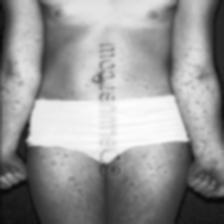Toxin: (183, 58, 201, 74), (15, 78, 26, 88)
